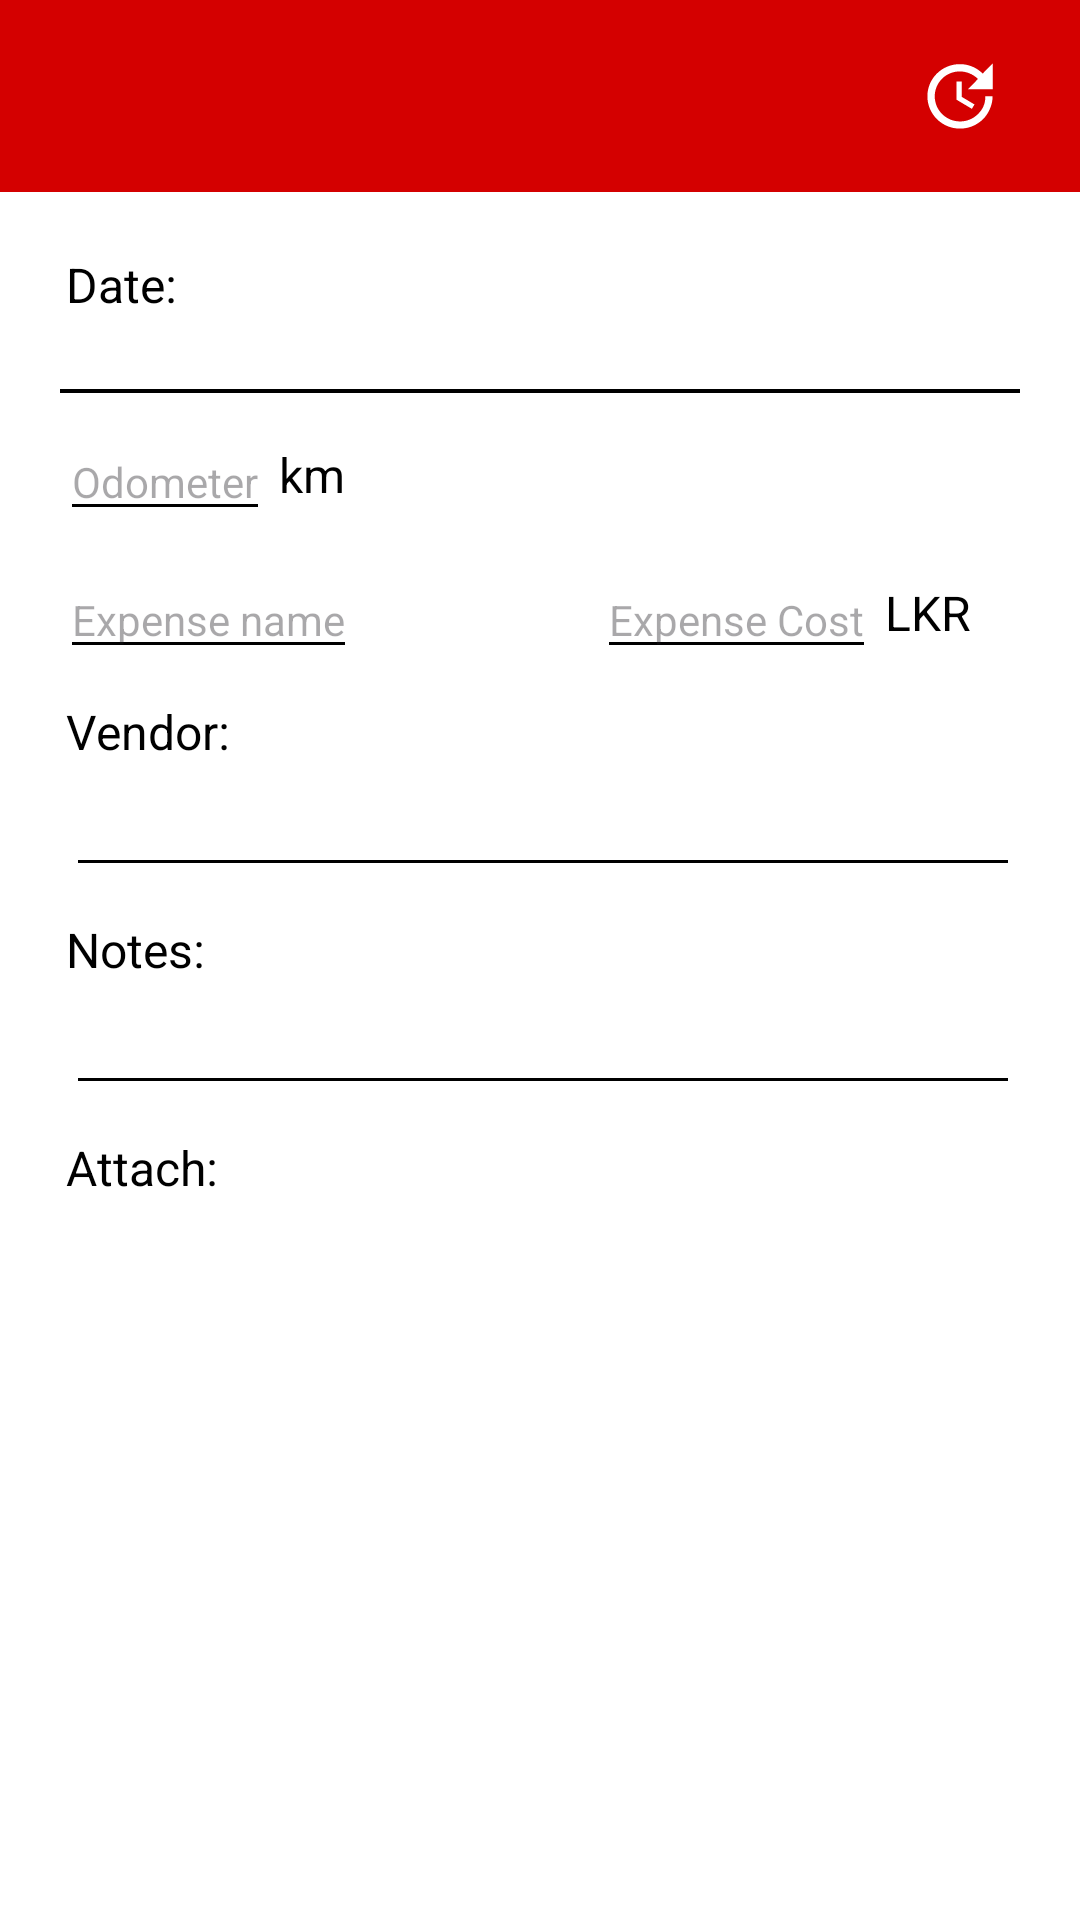

Screen size 1080w x 1920h. Icon name, then its box in pixels as (x1, y1, x2, y2):
update: (927, 63, 993, 129)
